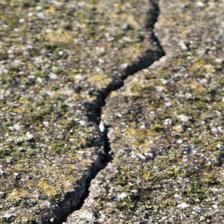Crack: (54, 1, 167, 218)
